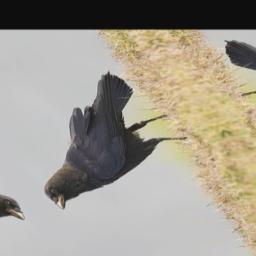Crow: (0, 65, 214, 213)
